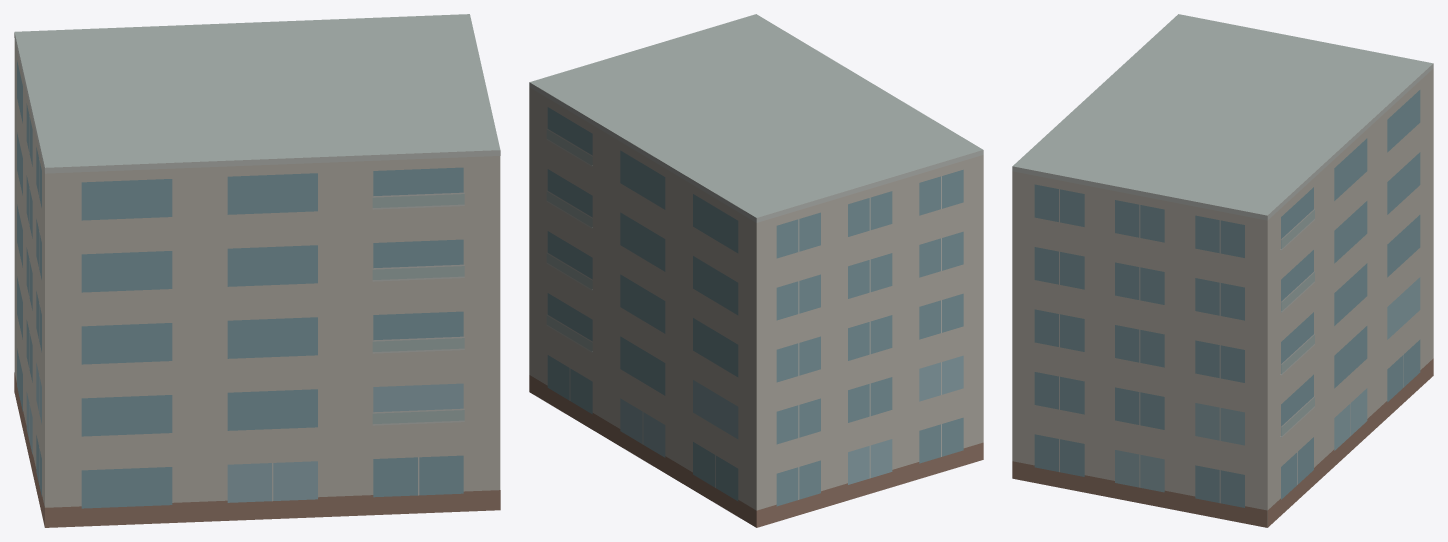
The model's file is survey-upis-32602868.glb.
3 renders of one model, left to right at view 1: azimuth 30°, elevation 25°; view 2: azimuth 150°, elevation 25°; view 3: azimuth 270°, elevation 25°, orthographic. The views are drawn at different scales.
Parts seen in each view (by area): view 1: survey-upis-32602868.tmp; view 2: survey-upis-32602868.tmp; view 3: survey-upis-32602868.tmp.
Part boxes in pixels (bbox=[...]): survey-upis-32602868.tmp: bbox=[14, 14, 500, 527]; survey-upis-32602868.tmp: bbox=[529, 14, 983, 527]; survey-upis-32602868.tmp: bbox=[1012, 14, 1433, 527].
Size of the model in its own units: 21.19 by 15.3 by 18.71.
